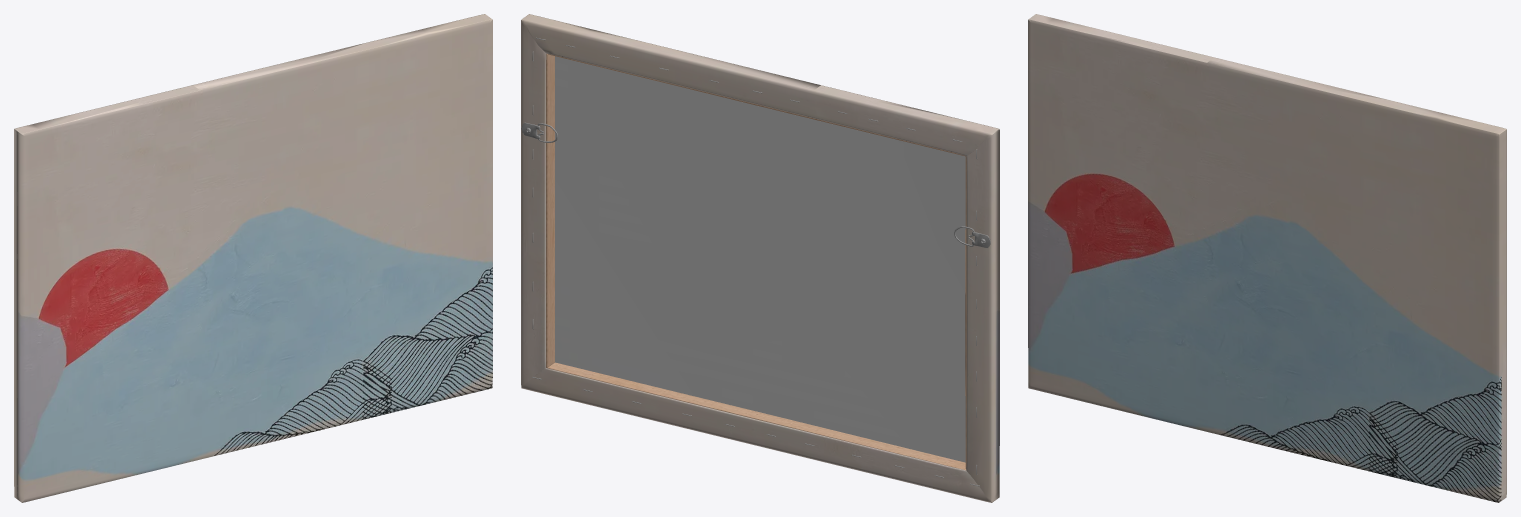
Rendered from B075HWHVN6.glb.
The picture shows the model from 3 angles, left to right: view 1: azimuth 30°, elevation 25°; view 2: azimuth 150°, elevation 25°; view 3: azimuth 330°, elevation 25°; orthographic projection.
Visible parts, largest first — view 1: RootNode; view 2: RootNode; view 3: RootNode.
Part boxes in pixels (left/top/right/bottom): RootNode: left=14, top=14, right=492, bottom=502; RootNode: left=521, top=14, right=999, bottom=502; RootNode: left=1028, top=14, right=1506, bottom=502.
Bounding box in the file's own units: 1.22 × 0.9121 × 0.0421.
1 material, 1 textured.
